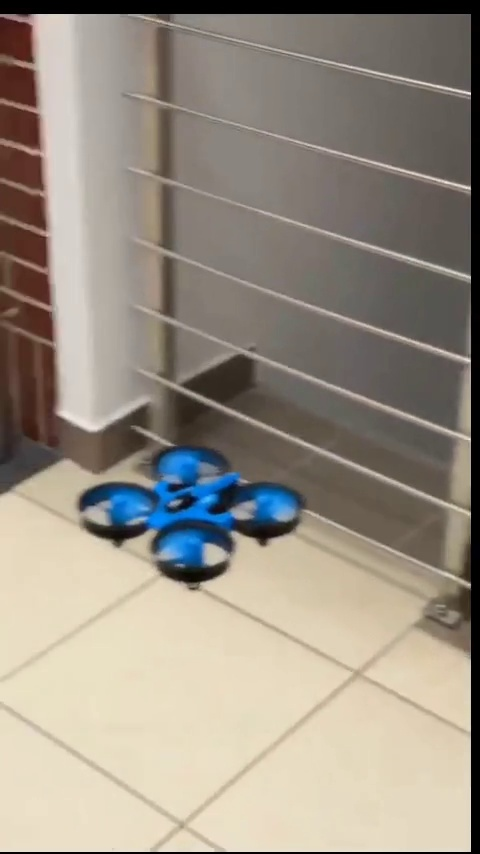drone: (78, 443, 304, 592)
